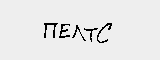Е: (59, 21, 73, 40)
Л: (72, 24, 86, 41)
П: (42, 21, 57, 42)
С: (95, 21, 112, 43)
Т: (87, 24, 98, 41)
